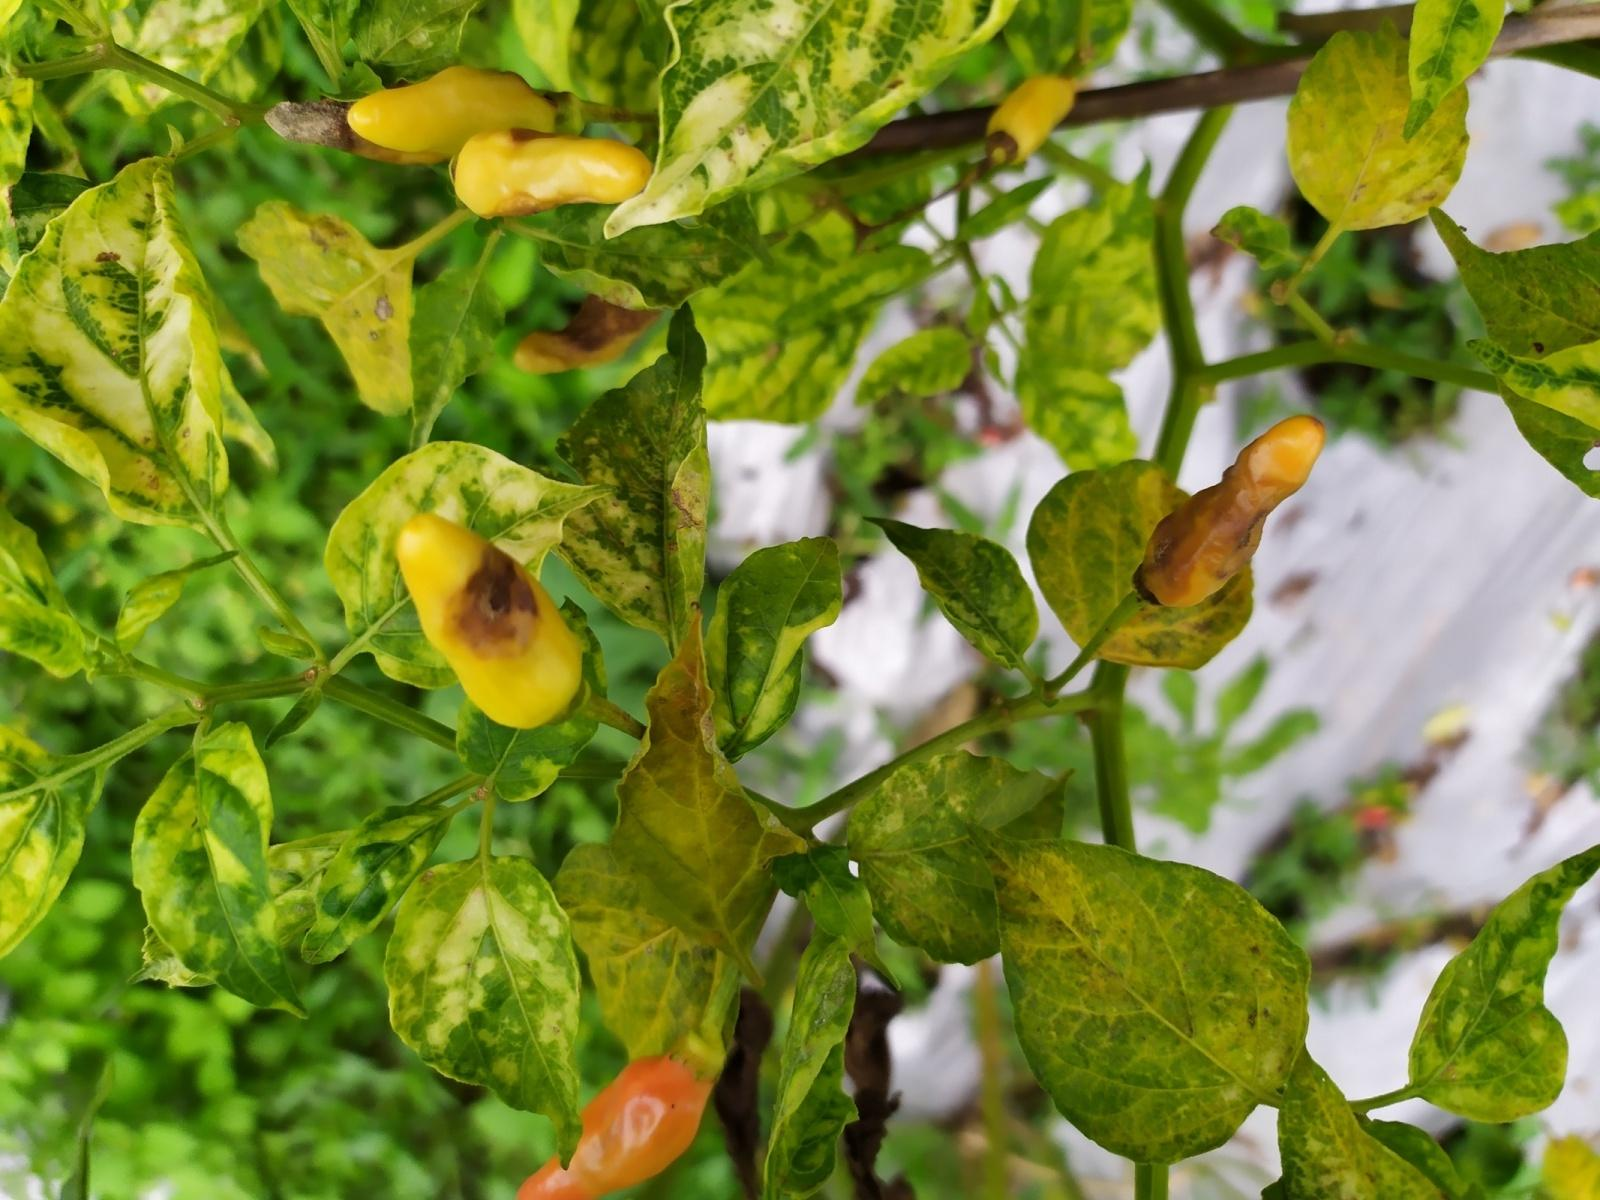antraknosa: (397, 514, 583, 729), (1135, 413, 1327, 608), (455, 129, 654, 218), (513, 295, 656, 376)
cabai_normal: (515, 1050, 718, 1197), (350, 64, 566, 158), (986, 74, 1078, 165)
